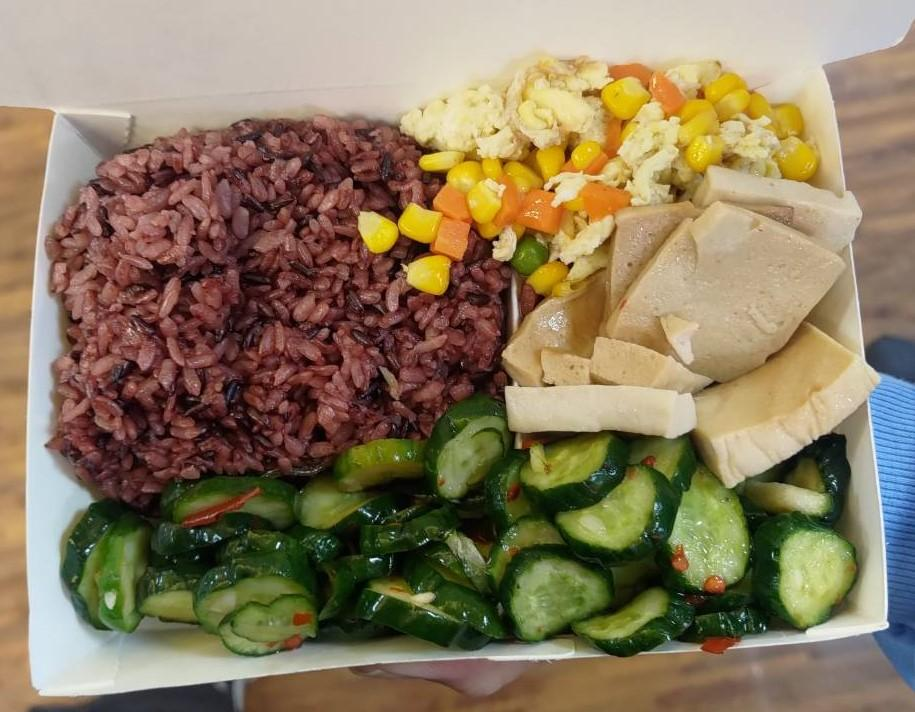big grilled chicken leg: (9, 59, 904, 695)
braised fish: (42, 113, 500, 480)
braised fish fillet: (61, 409, 859, 667), (490, 174, 875, 474), (402, 64, 805, 276)
